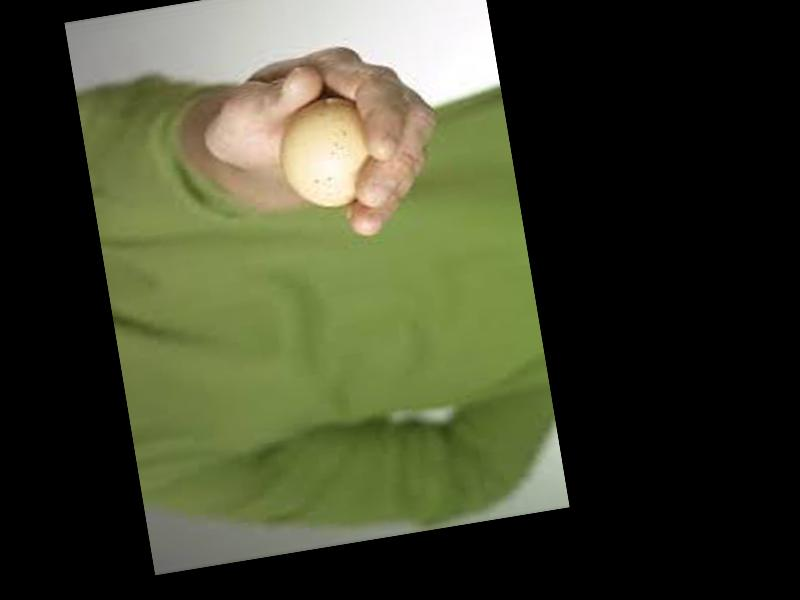Eggs: (273, 93, 377, 214)
